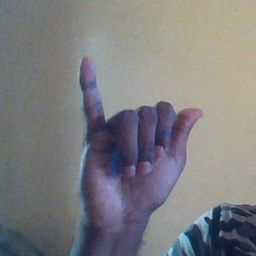J: (72, 54, 204, 211)
